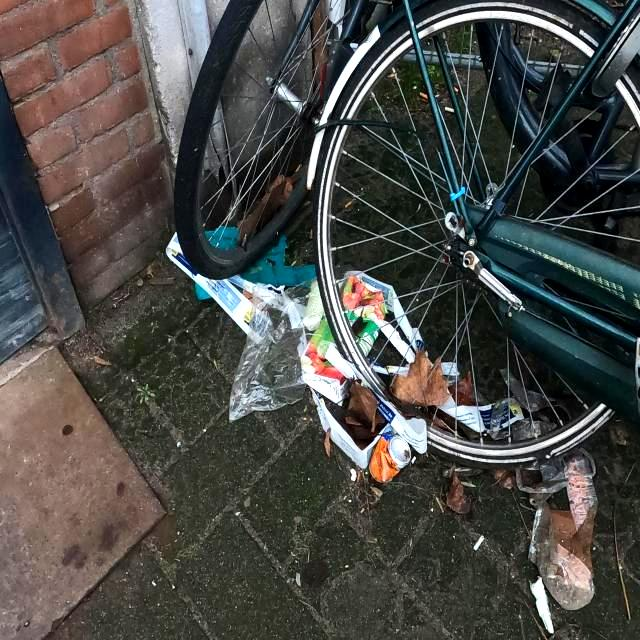Metal: (368, 432, 412, 483)
